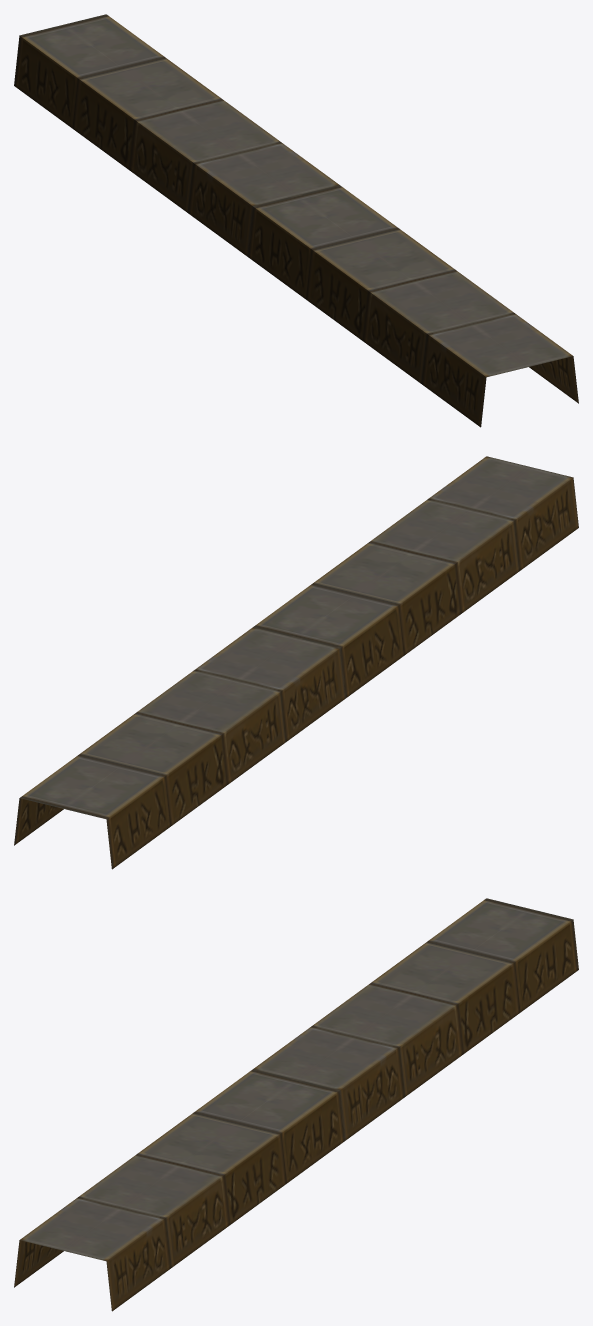
The model's file is Battle06_Box_03.FBX.
3 views of the same model, one above another, from view 1: azimuth 30°, elevation 25°; view 2: azimuth 150°, elevation 25°; view 3: azimuth 330°, elevation 25° (orthographic).
Visible parts, largest first — view 1: Battle06_Box_03; view 2: Battle06_Box_03; view 3: Battle06_Box_03.
Boxes of the visible parts, x1,y1,x2,y2 form: Battle06_Box_03: [14, 14, 578, 427]; Battle06_Box_03: [14, 456, 578, 869]; Battle06_Box_03: [14, 898, 578, 1311].
Bounding box in the file's own units: 3.22 × 1.54 × 26.62.
